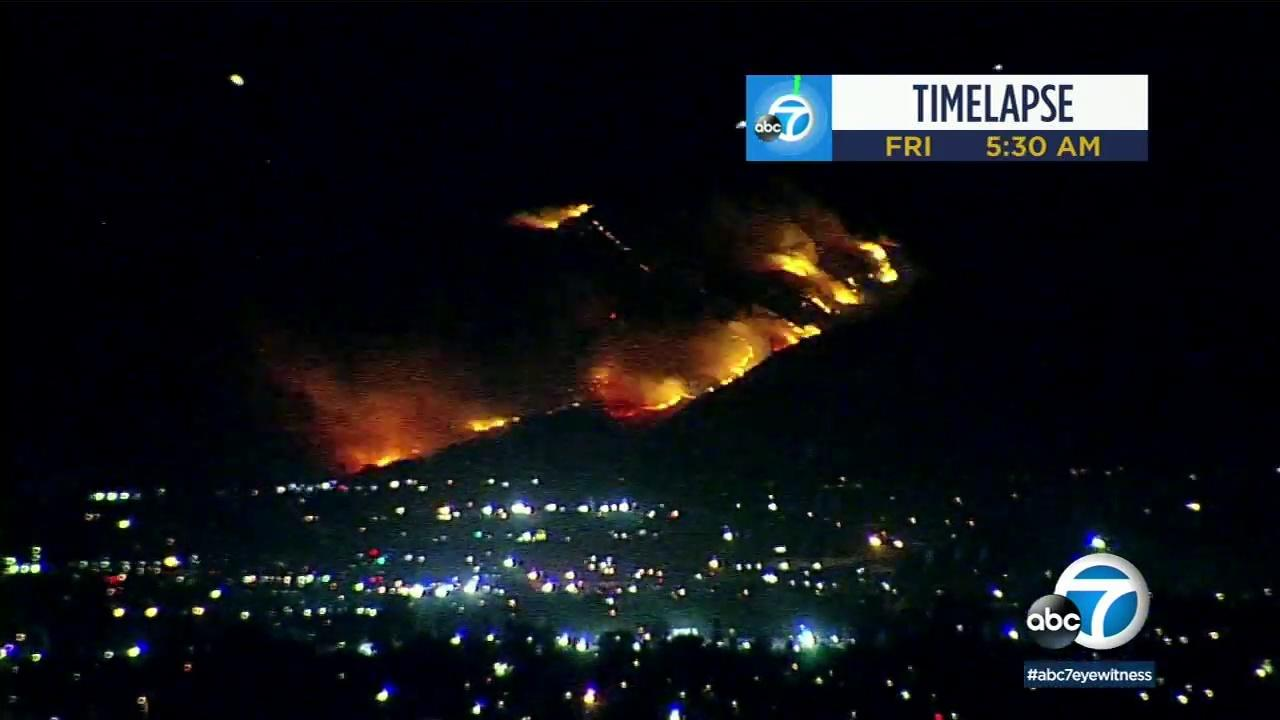Fire: (707, 348, 755, 392), (856, 240, 899, 285), (812, 283, 860, 314), (539, 204, 590, 232), (786, 323, 822, 351), (783, 254, 821, 280), (467, 415, 509, 437), (648, 394, 690, 415), (374, 453, 400, 470)
